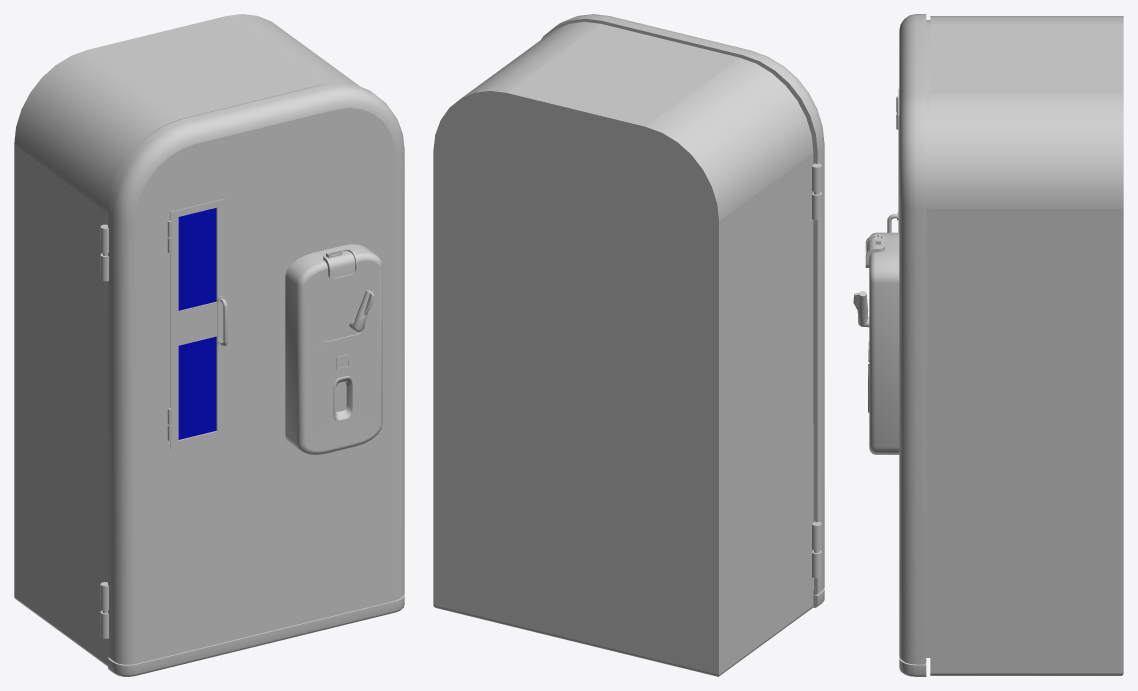
Rendered from Fridge.fbx.
3 renders of one model, left to right at view 1: azimuth 30°, elevation 25°; view 2: azimuth 150°, elevation 25°; view 3: azimuth 270°, elevation 25°, orthographic. The views are drawn at different scales.
Parts seen in each view (by area): view 1: Fridge; view 2: Fridge; view 3: Fridge.
Part boxes in pixels (box(x1,y1,x2,y2)): Fridge: box(14, 14, 404, 676); Fridge: box(433, 14, 824, 676); Fridge: box(853, 14, 1123, 676).
Size of the model in its own units: 1.06 by 1.83 by 0.8154.
